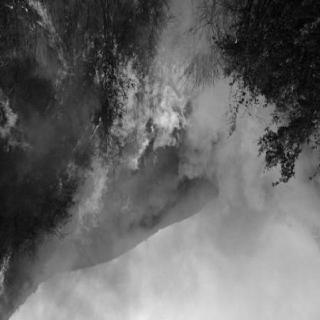Fire: (97, 58, 201, 170), (30, 2, 76, 128), (236, 99, 279, 173), (2, 86, 26, 156), (1, 248, 11, 306)
